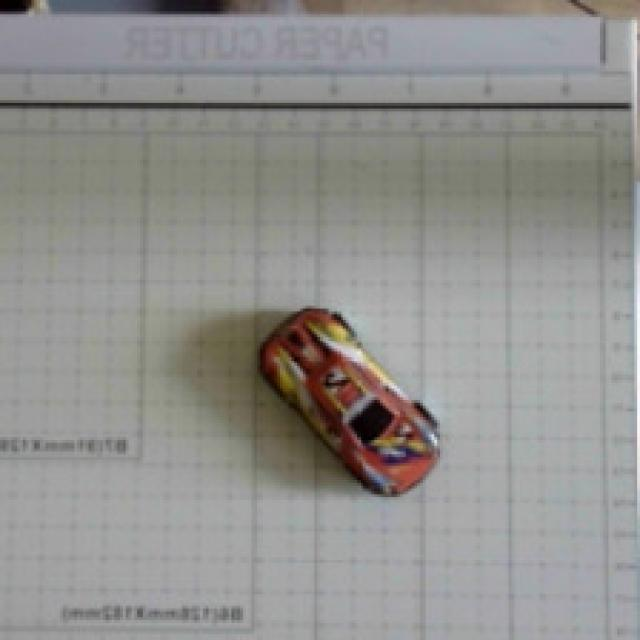Red Car: (200, 271, 475, 560)
